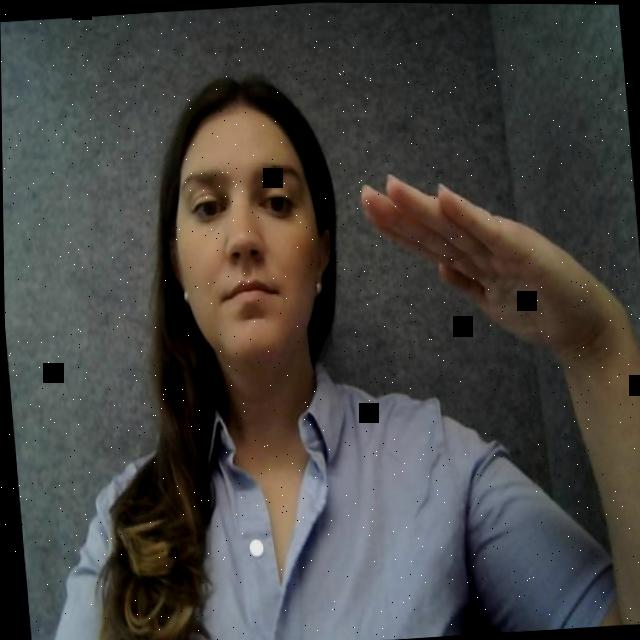Paper: (362, 145, 596, 366)
